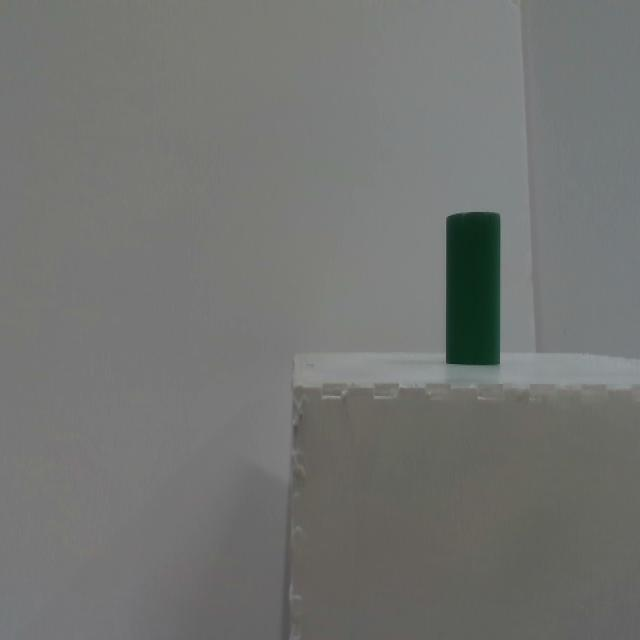green_cylinder: (446, 212, 501, 366)
